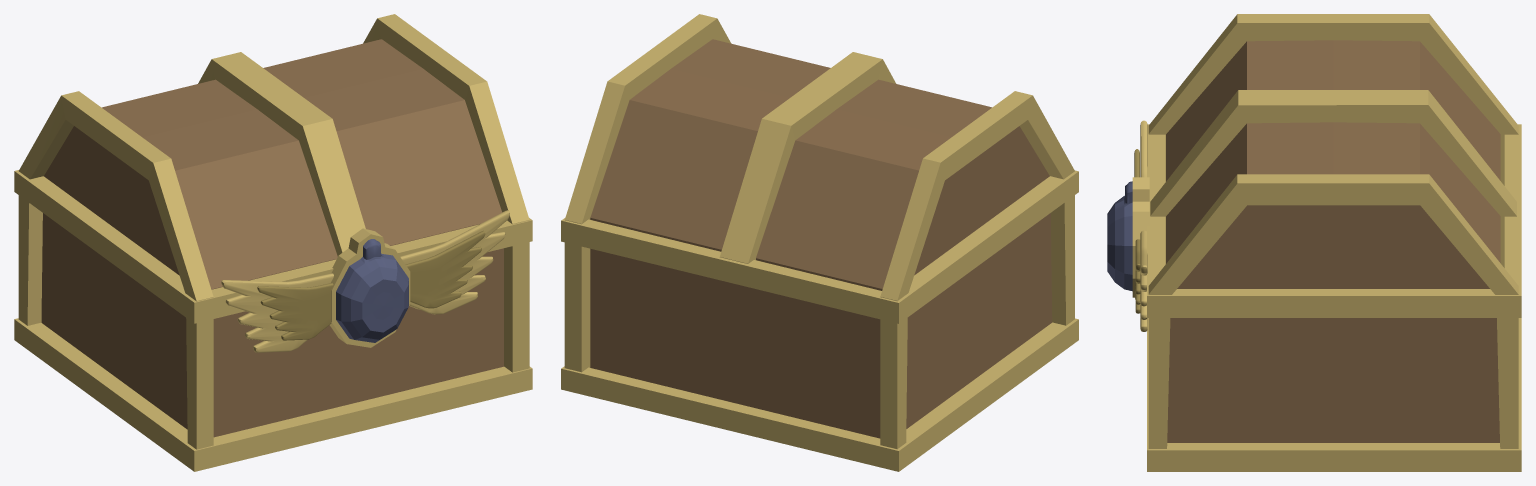
File: treasure_chest.fbx
The picture shows the model from 3 angles, left to right: view 1: azimuth 30°, elevation 25°; view 2: azimuth 150°, elevation 25°; view 3: azimuth 270°, elevation 25°; orthographic projection. The views are drawn at different scales.
Visible parts, largest first — view 1: pCylinder18, polySurface26, polySurface90, polySurface91, polySurface27, polySurface99, pSphere1, pCube353, pCube355, pCube354, pCube356, pCylinder19; view 2: pCylinder18, polySurface26, polySurface27, polySurface90, polySurface91, polySurface99; view 3: pCylinder18, polySurface91, polySurface27, polySurface99, polySurface90, polySurface26, pSphere1, pCylinder19, pCube356, pCube353, pCube355.
Part boxes in pixels (bbox=[...]): pCylinder18: bbox=[41, 39, 503, 437]; polySurface26: bbox=[14, 318, 532, 471]; polySurface90: bbox=[18, 91, 213, 449]; polySurface91: bbox=[363, 14, 529, 372]; polySurface27: bbox=[14, 170, 532, 323]; polySurface99: bbox=[198, 52, 365, 256]; pSphere1: bbox=[336, 239, 408, 342]; pCube353: bbox=[405, 230, 485, 308]; pCube355: bbox=[221, 273, 333, 352]; pCube354: bbox=[257, 283, 333, 340]; pCube356: bbox=[400, 210, 509, 314]; pCylinder19: bbox=[330, 228, 410, 347]; pCylinder18: bbox=[590, 39, 1052, 438]; polySurface26: bbox=[561, 318, 1078, 471]; polySurface27: bbox=[561, 170, 1078, 323]; polySurface90: bbox=[880, 91, 1074, 449]; polySurface91: bbox=[564, 14, 731, 372]; polySurface99: bbox=[720, 52, 896, 263]; pCylinder18: bbox=[1166, 40, 1500, 442]; polySurface91: bbox=[1148, 174, 1518, 448]; polySurface27: bbox=[1147, 124, 1521, 317]; polySurface99: bbox=[1150, 90, 1516, 226]; polySurface90: bbox=[1148, 14, 1518, 267]; polySurface26: bbox=[1147, 318, 1521, 471]; pSphere1: bbox=[1107, 181, 1132, 291]; pCylinder19: bbox=[1132, 177, 1149, 297]; pCube356: bbox=[1140, 230, 1147, 331]; pCube353: bbox=[1134, 239, 1140, 313]; pCube355: bbox=[1140, 120, 1147, 177].
Size of the model in its own units: 1.52 by 1.19 by 1.55.
